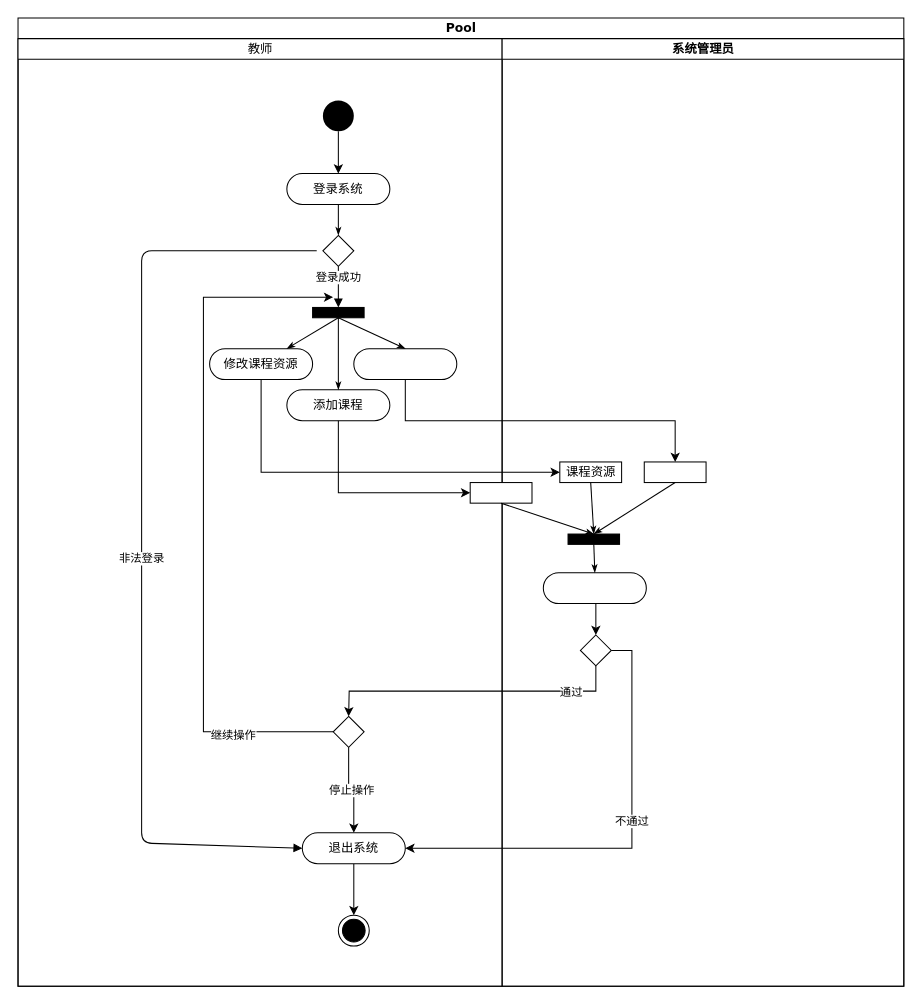
Image size: 922x1004. Some labels were removed from this diagram. Each missing label, with the box of its shape:
修改课程课件: (353, 348, 457, 380)
审核课程: (542, 572, 646, 604)
课件: (643, 461, 706, 483)
课程: (469, 482, 532, 503)
